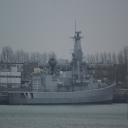Fragata: (8, 19, 120, 108)
